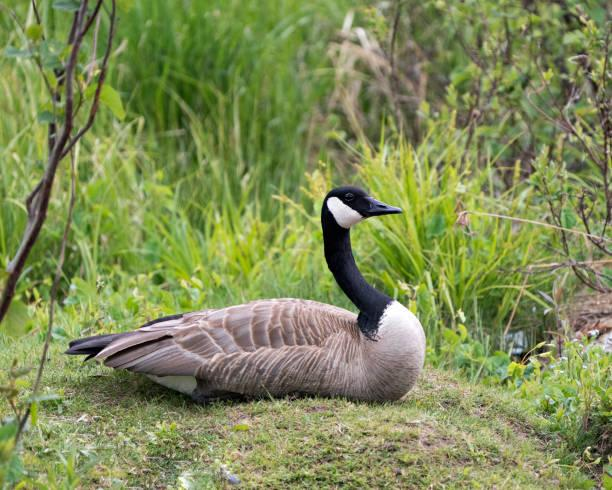Canadian-Goose: (72, 185, 428, 402)
